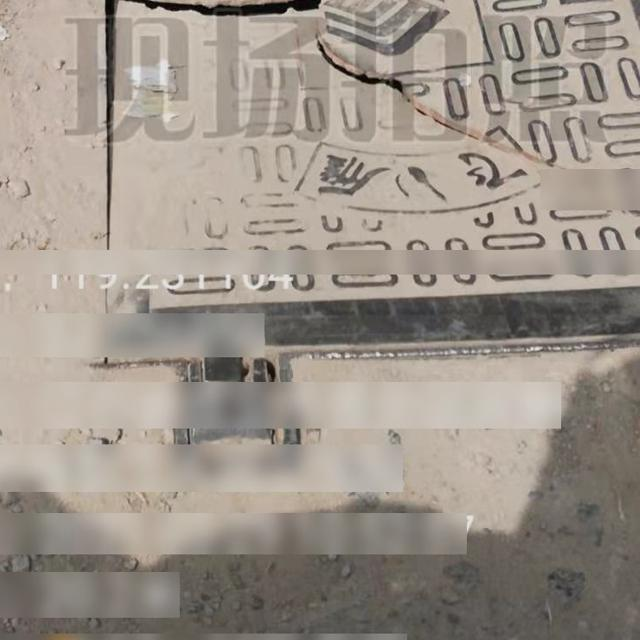broke: (86, 0, 640, 475)
